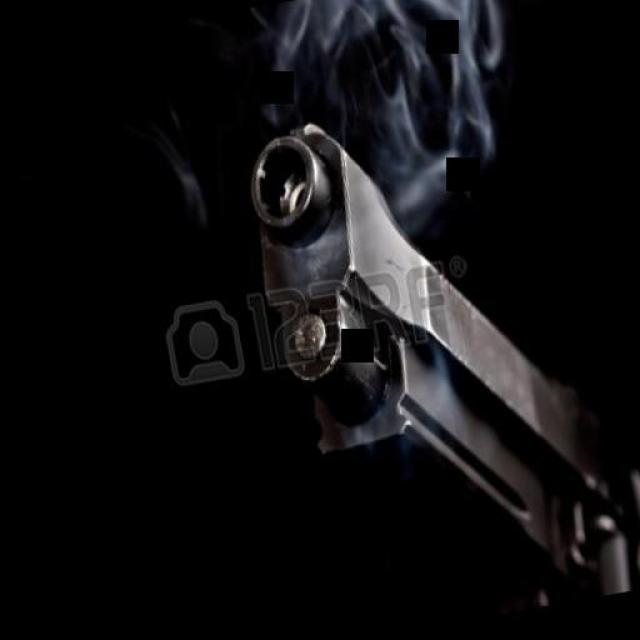gun: (221, 65, 640, 640)
